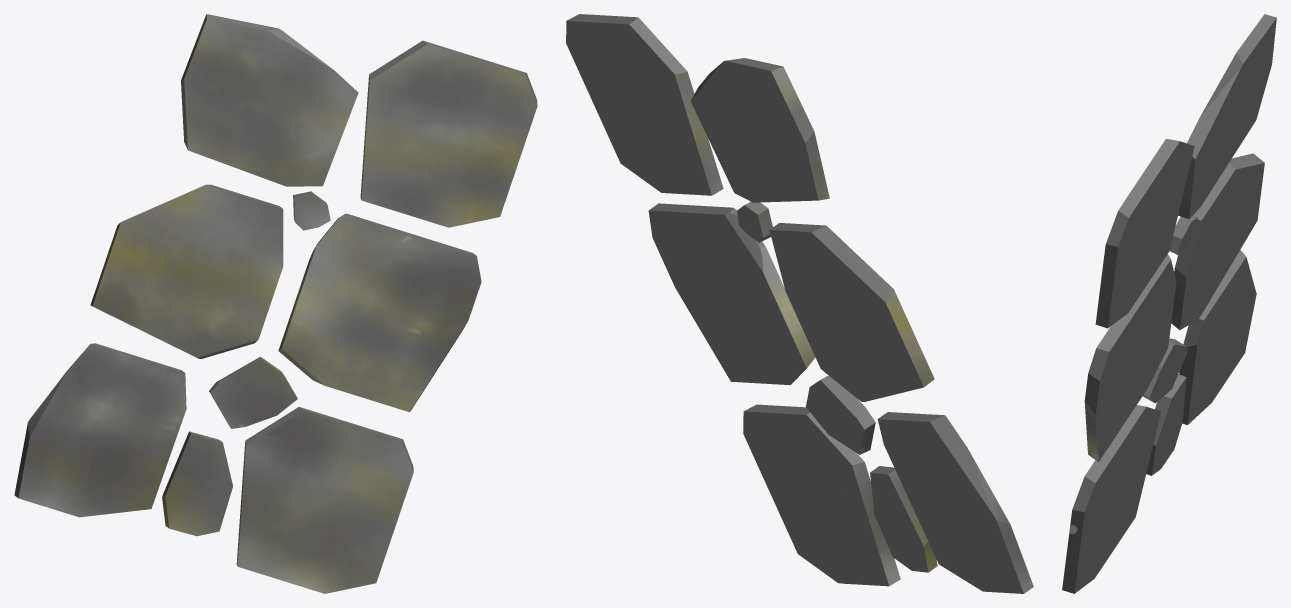
The model's file is WayPathBlocks.fbx.
3 renders of one model, left to right at view 1: azimuth 30°, elevation 25°; view 2: azimuth 150°, elevation 25°; view 3: azimuth 270°, elevation 25°, orthographic. The views are drawn at different scales.
Parts seen in each view (by area): view 1: node_id4; view 2: node_id4; view 3: node_id4.
Part boxes in pixels (box(x1,y1,x2,y2)): node_id4: box(14, 14, 537, 593); node_id4: box(566, 14, 1033, 593); node_id4: box(1062, 14, 1276, 593).
Bounding box in the file's own units: 0.339 × 0.363 × 0.129.
1 material, 1 textured.
